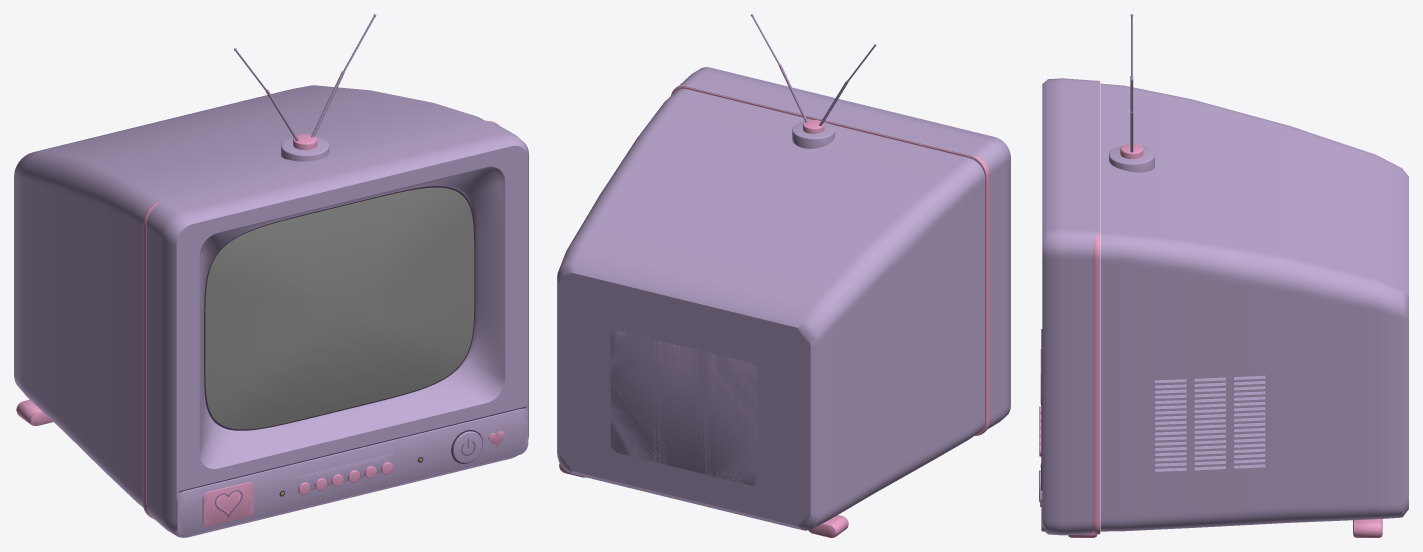
The model's file is LavenderRetroTV_480x450x420mm.fbx.
The picture shows the model from 3 angles, left to right: view 1: azimuth 30°, elevation 25°; view 2: azimuth 150°, elevation 25°; view 3: azimuth 270°, elevation 25°; orthographic projection. The views are drawn at different scales.
Visible parts, largest first — view 1: TV_Moulded_Hollow_Fascia, TV_Tapered_RearCase, TV_CRT_ConvexGlass, TV_LowerControlPanel, TV_HeartSpeaker, TV_Pink_CaseJoint, TV_CRT_RubberSeal, TV_ButtonLabels, TV_Aerial_Base, TV_Power_Button; view 2: TV_Tapered_RearCase, TV_Rear_ServicePanel, TV_Moulded_Hollow_Fascia, TV_Pink_CaseJoint, TV_Aerial_Base, TV_Foot_-187_175; view 3: TV_Tapered_RearCase, TV_Moulded_Hollow_Fascia, TV_Pink_CaseJoint, TV_Aerial_Base, TV_Foot_187_175.
Part boxes in pixels (x1=…): TV_Moulded_Hollow_Fascia: x1=147, y1=120, x2=528, y2=537; TV_Tapered_RearCase: x1=14, y1=85, x2=484, y2=506; TV_CRT_ConvexGlass: x1=205, y1=187, x2=474, y2=429; TV_LowerControlPanel: x1=175, y1=409, x2=528, y2=536; TV_HeartSpeaker: x1=202, y1=482, x2=253, y2=526; TV_Pink_CaseJoint: x1=142, y1=121, x2=498, y2=518; TV_CRT_RubberSeal: x1=204, y1=186, x2=475, y2=430; TV_ButtonLabels: x1=296, y1=453, x2=394, y2=493; TV_Aerial_Base: x1=281, y1=136, x2=329, y2=161; TV_Power_Button: x1=452, y1=431, x2=482, y2=463; TV_Tapered_RearCase: x1=557, y1=89, x2=984, y2=530; TV_Rear_ServicePanel: x1=610, y1=330, x2=758, y2=485; TV_Moulded_Hollow_Fascia: x1=676, y1=67, x2=1010, y2=429; TV_Pink_CaseJoint: x1=671, y1=84, x2=989, y2=435; TV_Aerial_Base: x1=792, y1=121, x2=834, y2=148; TV_Foot_-187_175: x1=808, y1=515, x2=848, y2=537; TV_Tapered_RearCase: x1=1100, y1=83, x2=1408, y2=531; TV_Moulded_Hollow_Fascia: x1=1042, y1=78, x2=1099, y2=535; TV_Pink_CaseJoint: x1=1092, y1=80, x2=1100, y2=534; TV_Aerial_Base: x1=1109, y1=145, x2=1154, y2=172; TV_Foot_187_175: x1=1353, y1=519, x2=1382, y2=537.
Size of the model in its own units: 0.48 by 0.5657 by 0.45.
5 materials, 2 textured.
